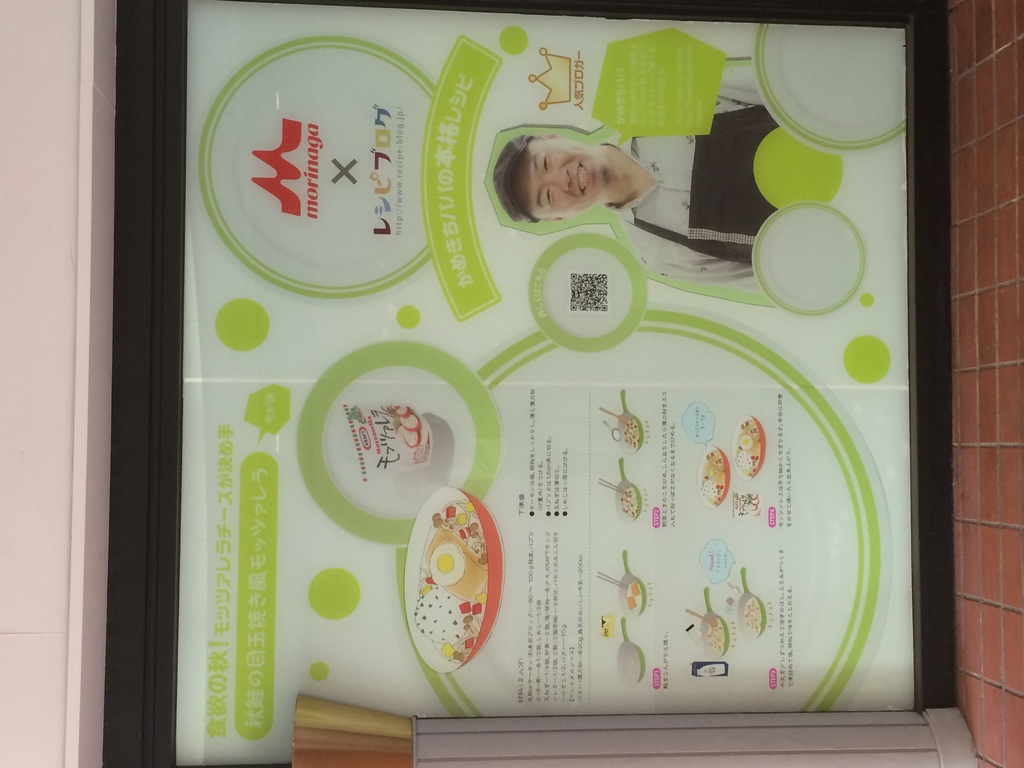Person: (490, 67, 763, 290)
